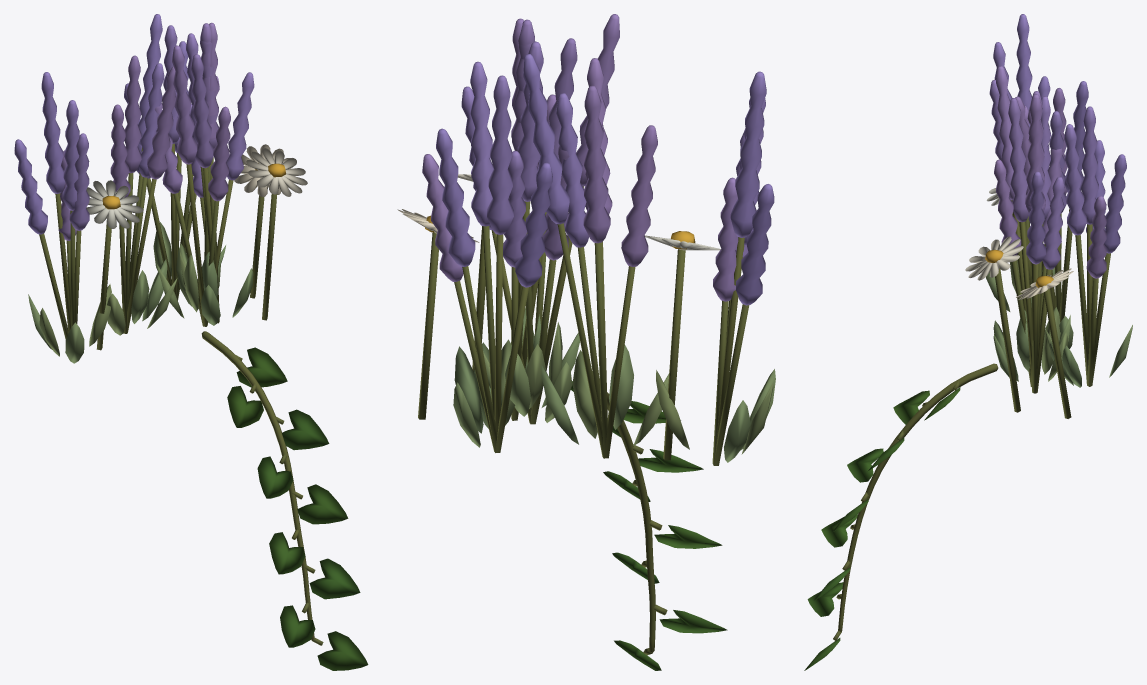
File: box_mixed.glb
3 views of the same model, side by side, from view 1: azimuth 30°, elevation 25°; view 2: azimuth 150°, elevation 25°; view 3: azimuth 270°, elevation 25° (orthographic). The views are drawn at different scales.
Parts seen in each view (by area): view 1: Sammel Pflanze, Sammel Putz; view 2: Sammel Pflanze, Sammel Putz; view 3: Sammel Pflanze, Sammel Putz.
Boxes of the visible parts, x1,y1,x2,y2 form: Sammel Pflanze: (14, 14, 368, 670); Sammel Putz: (39, 143, 323, 645); Sammel Pflanze: (397, 14, 775, 670); Sammel Putz: (418, 186, 749, 655); Sammel Pflanze: (804, 14, 1132, 670); Sammel Putz: (833, 200, 1110, 640).
Bounding box in the file's own units: 0.2902 × 0.5703 × 0.3013.
